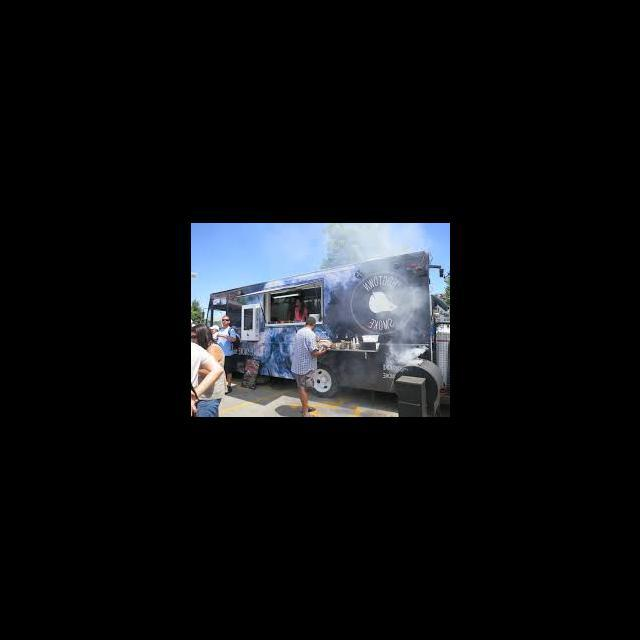Smoke: (322, 224, 423, 334), (382, 341, 430, 365)
